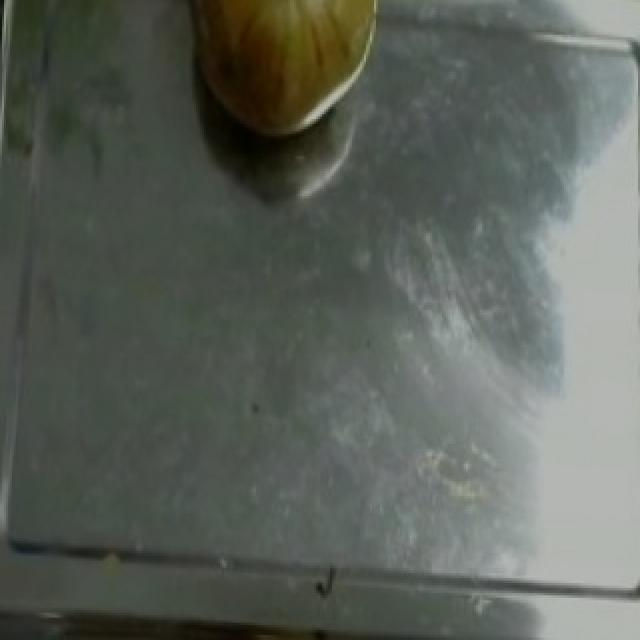fruit: (178, 2, 414, 156)
